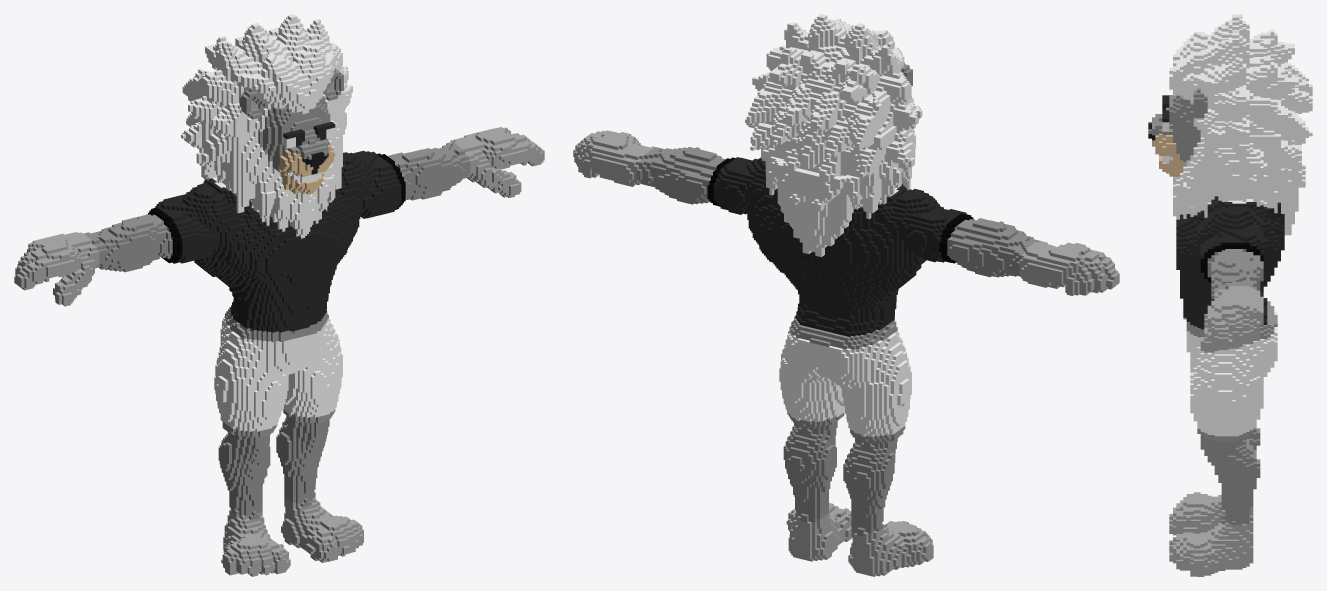
The model's file is 1097-CNyr7SY9.fbx.
3 views of the same model, side by side, from view 1: azimuth 30°, elevation 25°; view 2: azimuth 150°, elevation 25°; view 3: azimuth 270°, elevation 25° (orthographic). The views are drawn at different scales.
Parts seen in each view (by area): view 1: big_smile; view 2: big_smile; view 3: big_smile.
Boxes of the visible parts, bbox=[...] form: big_smile: bbox=[14, 14, 544, 576]; big_smile: bbox=[573, 14, 1119, 576]; big_smile: bbox=[1148, 14, 1312, 576].
Size of the model in its own units: 17.2 by 16.5 by 4.7.
5 materials, 5 textured.
